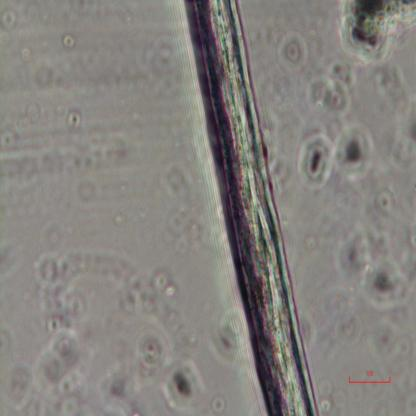Background material: (33, 252, 96, 416), (0, 134, 121, 191), (340, 225, 415, 311), (101, 322, 171, 410), (338, 0, 416, 63), (374, 61, 416, 173), (159, 165, 205, 260), (101, 248, 155, 318), (318, 280, 364, 360), (143, 294, 198, 350), (0, 328, 34, 411), (331, 120, 375, 182), (312, 60, 358, 118), (296, 130, 334, 192), (144, 30, 180, 92), (160, 361, 203, 411), (1, 101, 42, 148), (369, 322, 412, 363), (211, 312, 246, 360), (275, 29, 310, 74), (2, 189, 37, 222), (0, 236, 25, 281), (152, 266, 182, 300), (319, 378, 347, 412), (37, 58, 65, 92), (0, 5, 20, 48), (373, 184, 398, 218), (65, 108, 84, 132), (305, 231, 322, 256), (212, 391, 228, 412), (62, 30, 76, 49), (114, 213, 124, 226)
Microfibre: (184, 0, 320, 415)
